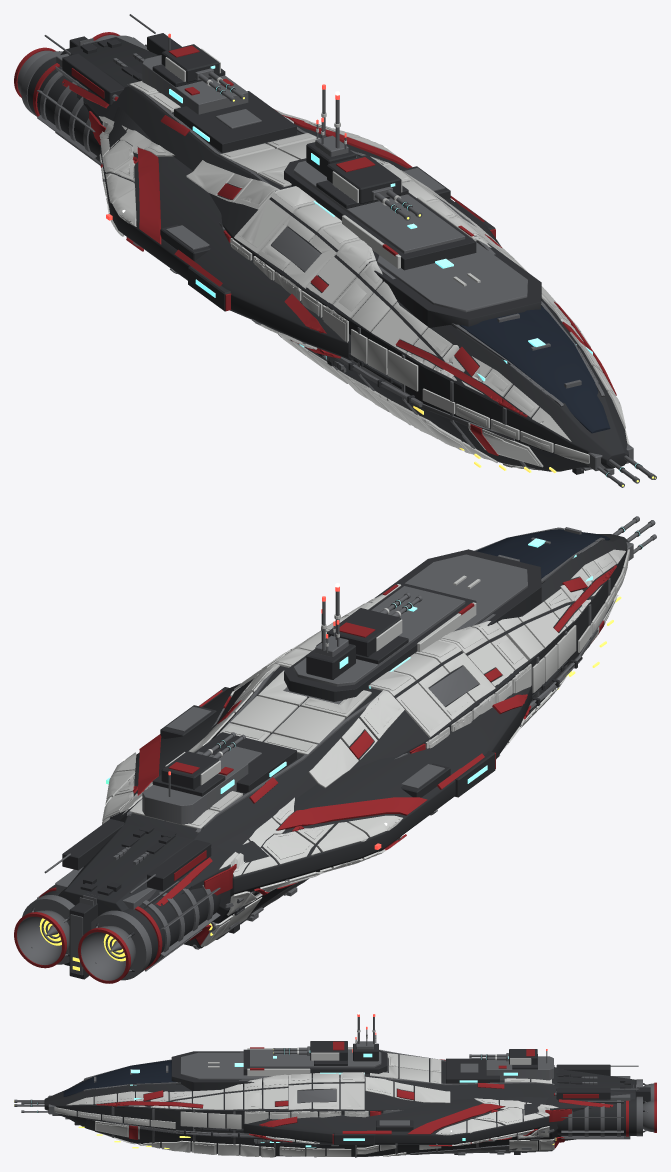
The picture shows the model from 3 angles, top to bottom: view 1: azimuth 30°, elevation 25°; view 2: azimuth 150°, elevation 25°; view 3: azimuth 270°, elevation 25°; orthographic projection. The views are drawn at different scales.
Parts seen in each view (by area): view 1: SR01_Coque, SR01_Tourelle_T1, SR01_Tourelle_T2; view 2: SR01_Coque, SR01_Tourelle_T1, SR01_Tourelle_T2; view 3: SR01_Coque, SR01_Tourelle_T1, SR01_Tourelle_T2.
Boxes of the visible parts, x1,y1,x2,y2 form: SR01_Coque: [14, 14, 656, 487]; SR01_Tourelle_T1: [316, 155, 422, 220]; SR01_Tourelle_T2: [152, 44, 245, 102]; SR01_Coque: [14, 516, 656, 983]; SR01_Tourelle_T1: [316, 592, 422, 664]; SR01_Tourelle_T2: [152, 732, 245, 796]; SR01_Coque: [14, 1012, 656, 1157]; SR01_Tourelle_T1: [273, 1041, 347, 1065]; SR01_Tourelle_T2: [469, 1049, 537, 1069].
Size of the model in its own units: 19.59 by 16.18 by 71.47.
